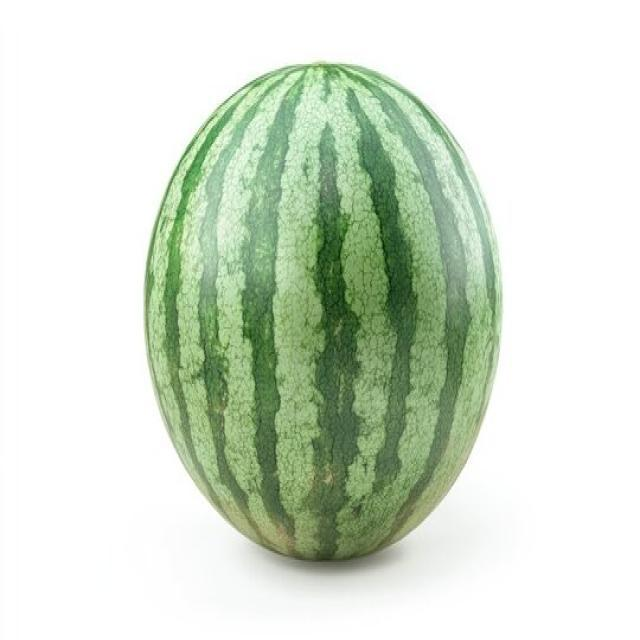Watermelon: (149, 66, 507, 562)
